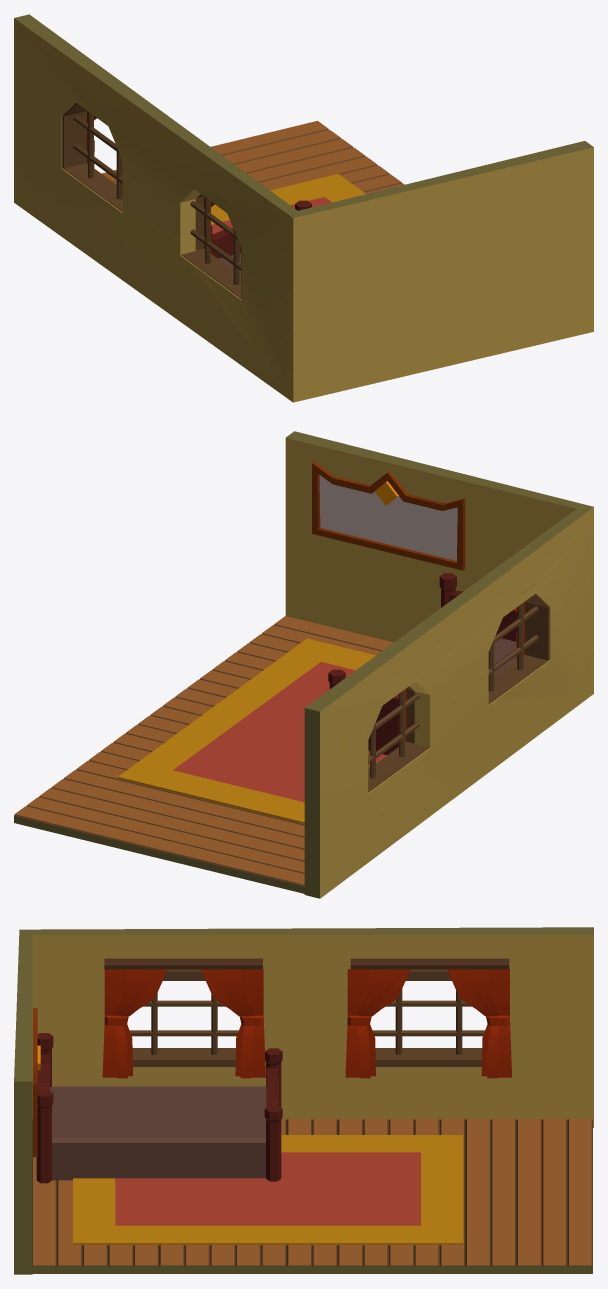
The picture shows the model from 3 angles, top to bottom: view 1: azimuth 30°, elevation 25°; view 2: azimuth 150°, elevation 25°; view 3: azimuth 270°, elevation 25°; orthographic projection. The views are drawn at different scales.
Visible parts, largest first — view 1: mr 1; view 2: mr 1; view 3: mr 1.
Part boxes in pixels (<box>): mr 1: <box>14,14,593,402</box>; mr 1: <box>14,431,593,898</box>; mr 1: <box>14,927,593,1274</box>.
Bounding box in the file's own units: 573 × 334 × 909.
